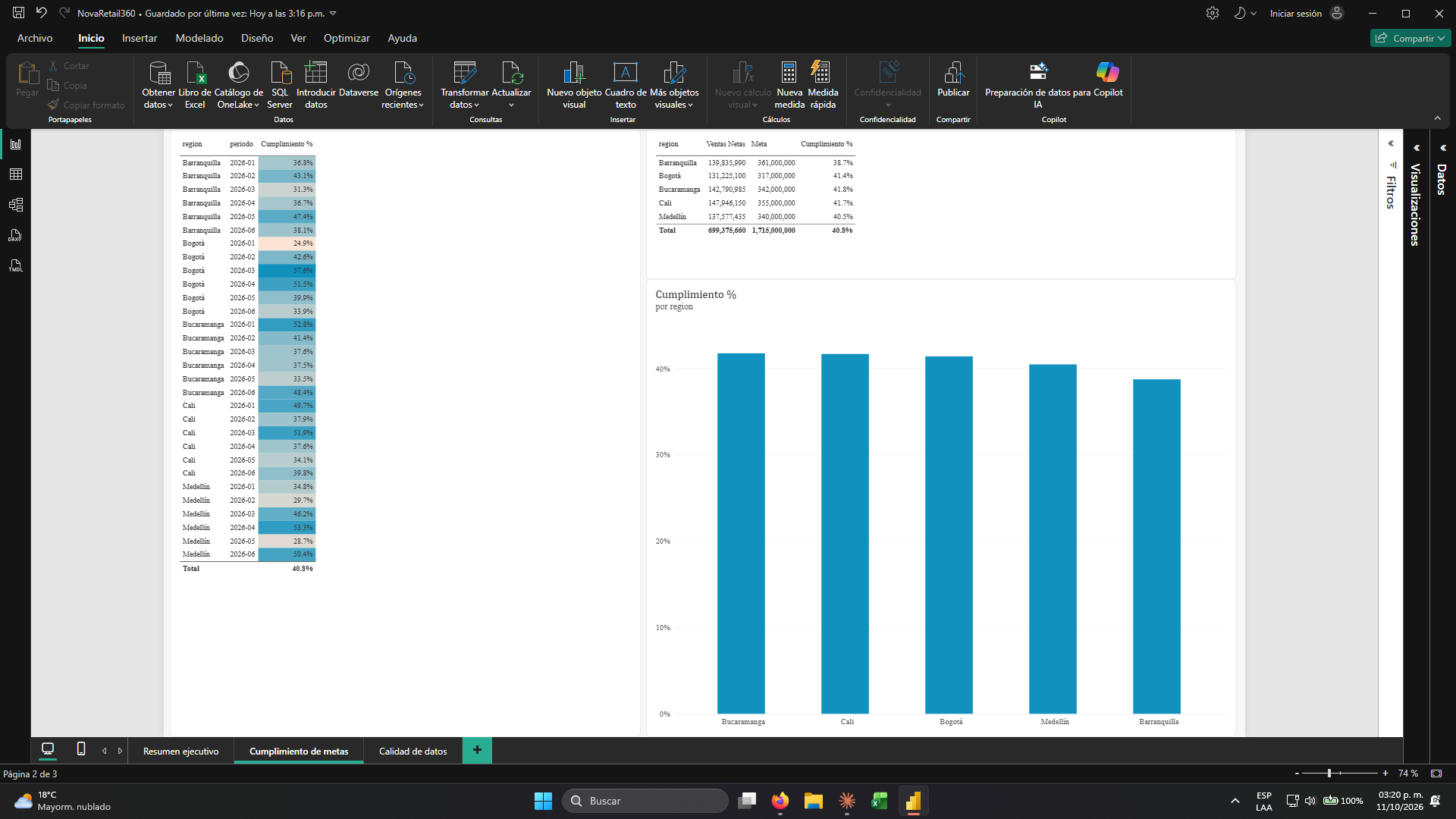

The dashboard page shown, as its layout file describes it:
{"tool":"powerbi","page":{"name":"Cumplimiento de metas","canvas":[1920,1080],"ordinal":1},"visuals":[{"type":"tableEx","fields":{"Values":["dim_region.region","dim_periodo.periodo","ventas_limpias.Cumplimiento %"]},"box":[10.2,0,836,1079.6],"z":0},{"type":"tableEx","fields":{"Values":["dim_region.region","ventas_limpias.Ventas Netas","ventas_limpias.Meta","ventas_limpias.Cumplimiento %"]},"box":[856.4,0,1047.5,267],"z":1},{"type":"clusteredColumnChart","fields":{"Category":["dim_region.region"],"Y":["ventas_limpias.Cumplimiento %"]},"box":[856,267,1048,813],"z":2}]}

Visuals, with their boxes on the page's 1920x1080 design canvas (x1, y1, x2, y2). These are canvas units, not pixel positions in the 1456x819 screenshot, which may show the page scaled, cropped or inside an application window:
tableEx - dim_region.region x dim_periodo.periodo: 10,0,846,1080
tableEx - dim_region.region x ventas_limpias.Ventas Netas: 856,0,1904,267
clusteredColumnChart - dim_region.region x ventas_limpias.Cumplimiento %: 856,267,1904,1080
